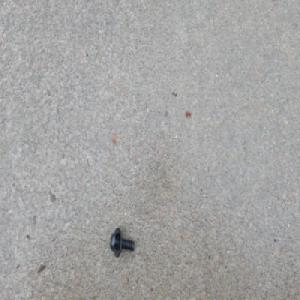BoltWasher: (110, 227, 135, 258)
